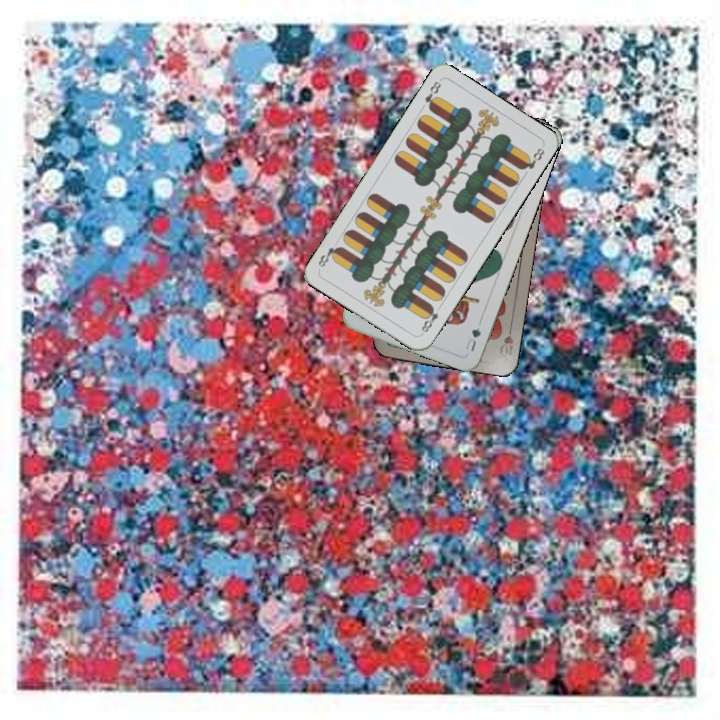E8: (417, 302, 444, 337), (420, 77, 444, 113)
GU: (460, 323, 483, 354)
H10: (495, 320, 516, 361)
